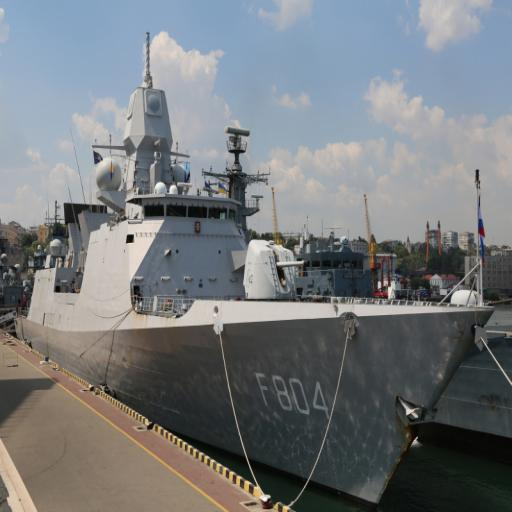Fragata: (15, 26, 499, 501)
